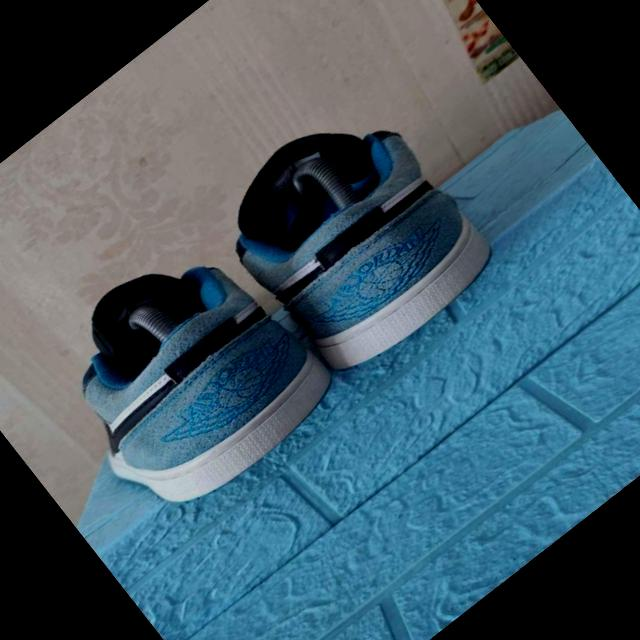nike_fake_jordan: (20, 209, 354, 542), (193, 77, 514, 400)
